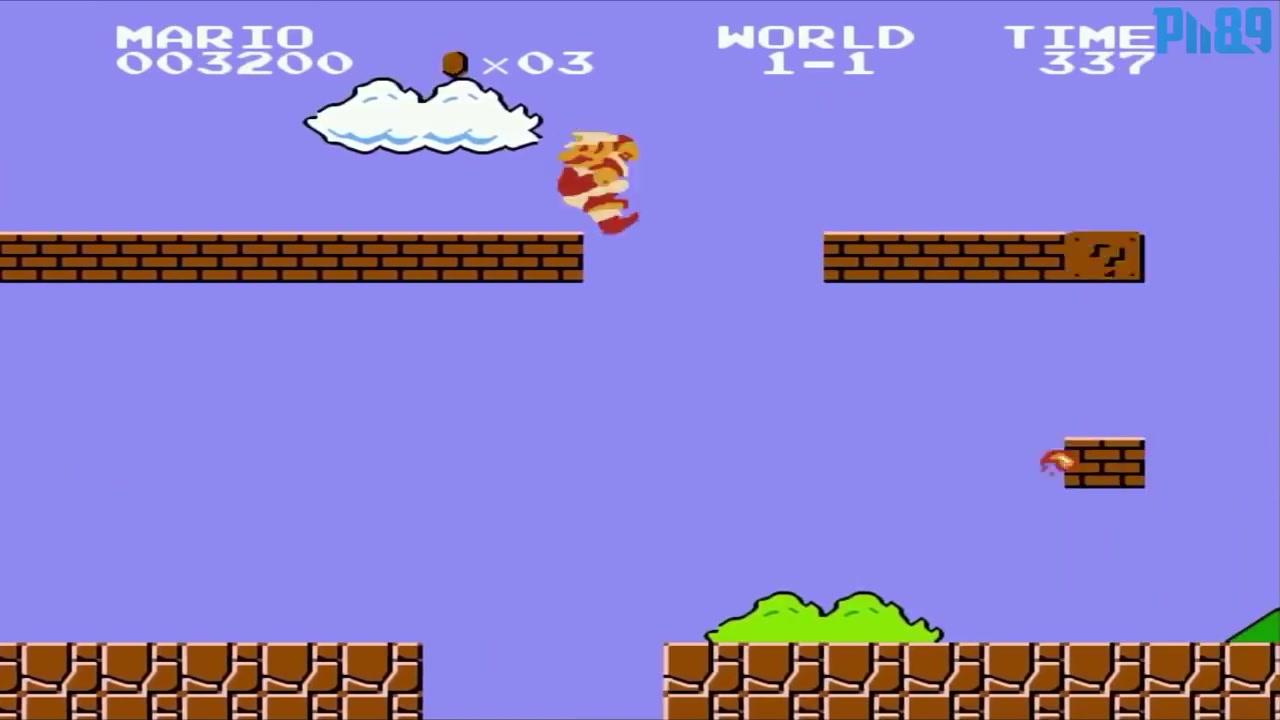mario: (558, 124, 643, 242)
